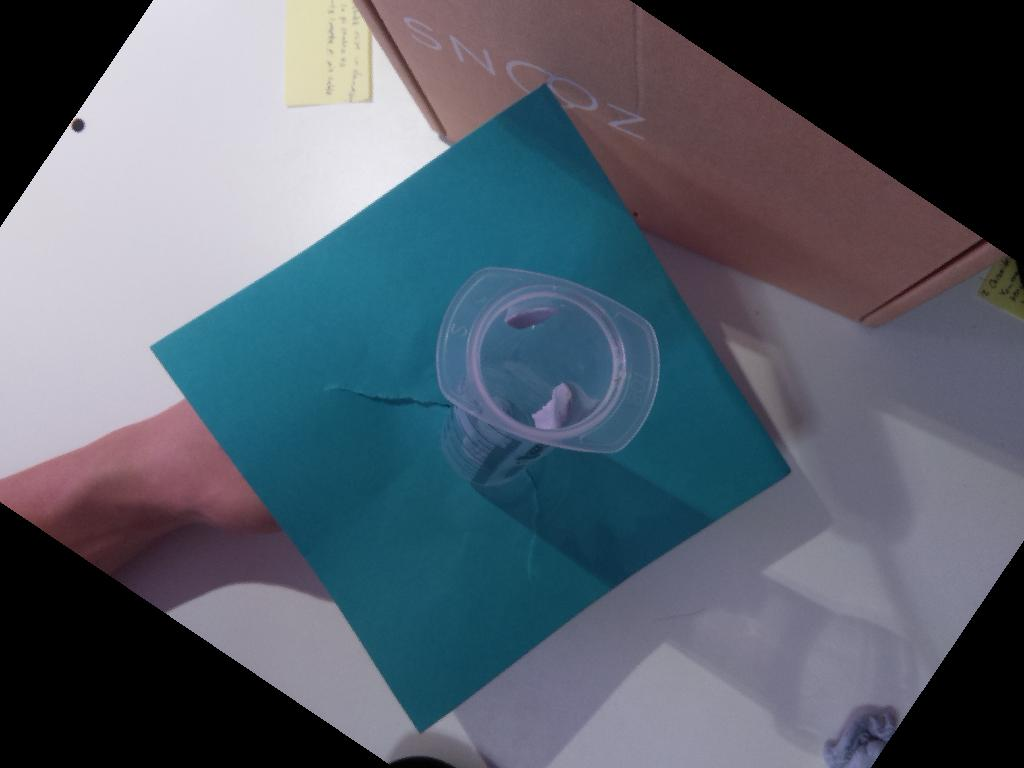dirty: (434, 264, 662, 453)
